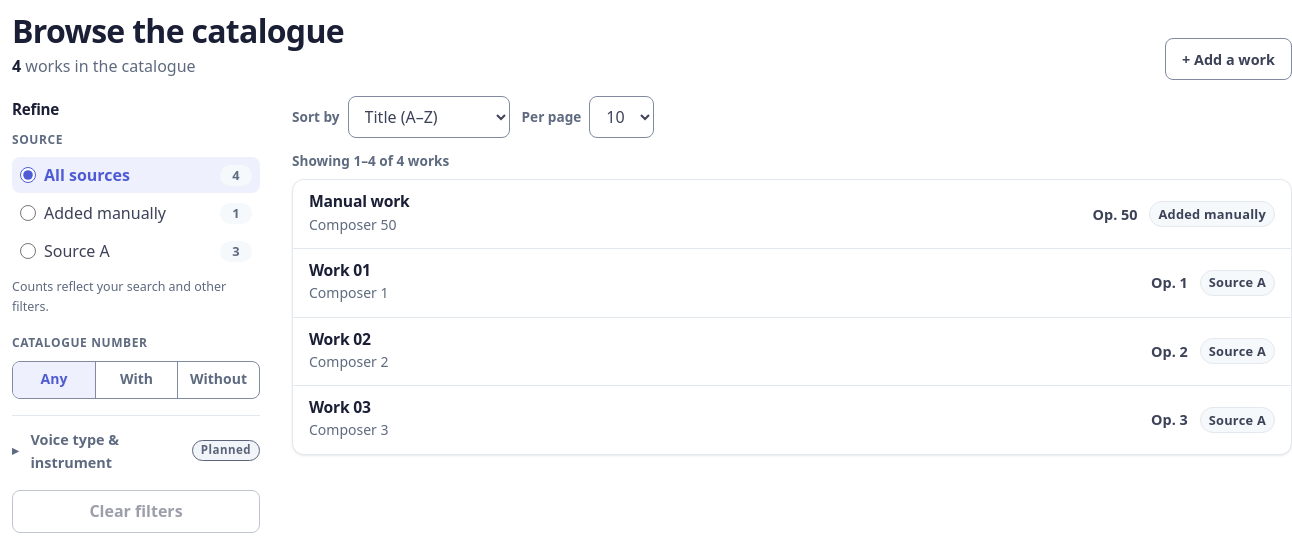
Test: WorkCataloguePage › filters by source and shows a removable filter chip
Expected: the text "Showing 1–4 of 4 works" is shown, top-left (292, 150), bottom-right (449, 171)
Click the radio button labelled "Added manually 1" at coordinates (28, 213), box top-left (20, 205), bottom-right (36, 221)
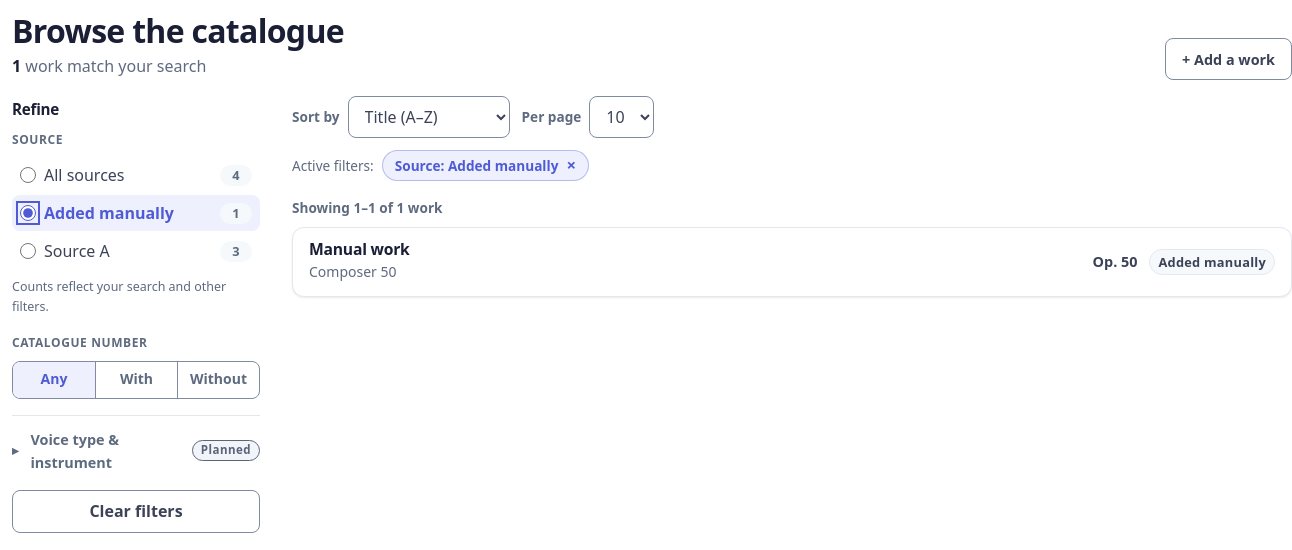
Expected: the text "Showing 1–1 of 1 work" is shown, top-left (292, 197), bottom-right (442, 219)
Click the button "Source: Added manually ×" at coordinates (485, 166), box top-left (382, 150), bottom-right (589, 181)
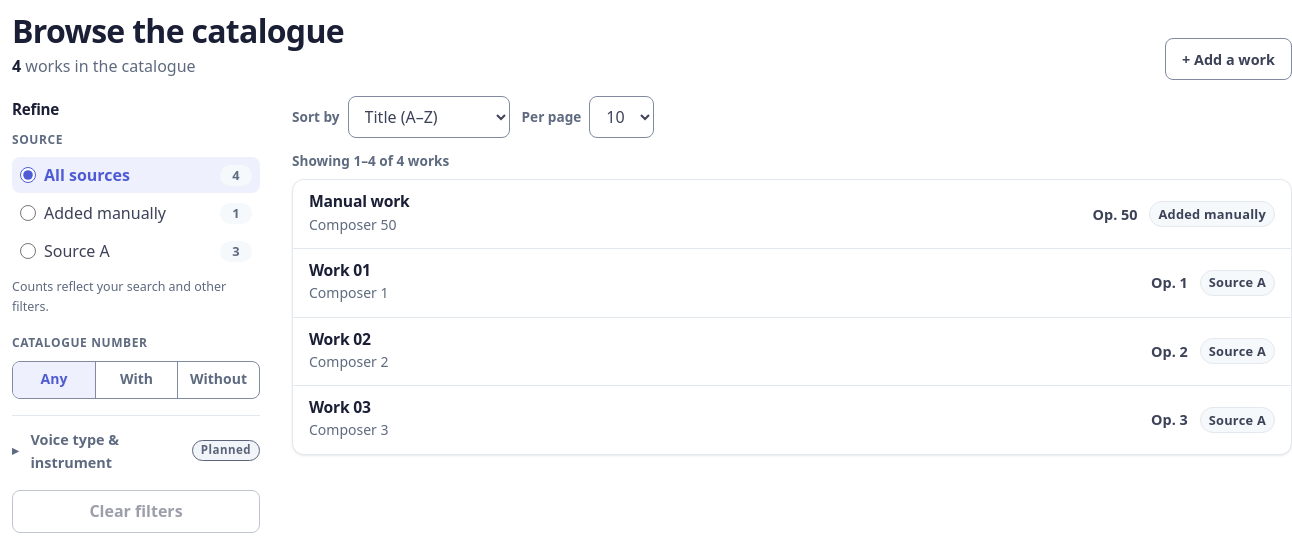
Expected: the text "Showing 1–4 of 4 works" is shown, top-left (292, 150), bottom-right (449, 171)
